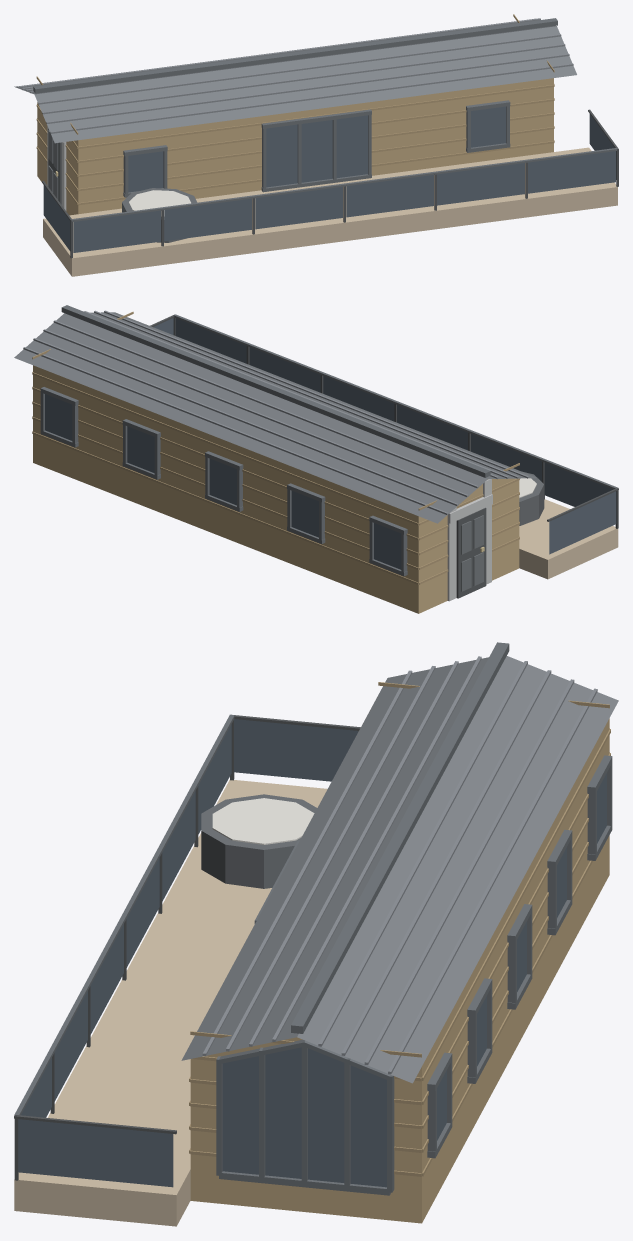
3 views of the same model, one above another, from view 1: azimuth 30°, elevation 25°; view 2: azimuth 150°, elevation 25°; view 3: azimuth 270°, elevation 25° (orthographic). The views are drawn at different scales.
Visible parts, largest first — view 1: slate, door_wood, larch, slate_dk, slate_lt, door_wood_p, window_glass_003, window_glass_005, window_glass_001, window_glass_006, window_glass_002, window_glass_004 (+12 smaller); view 2: door_wood, slate, slate_dk, slate_lt, door_wood_p, larch, window_glass_007, stone_band, window_glass_001, window_glass_004, window_glass_005, window_glass_006 (+11 smaller); view 3: slate, larch, door_wood, slate_dk, window_glass_014, slate_lt, window_glass_008, window_glass_007, door_wood_p, band_dark, string, pipe (+6 smaller).
Part boxes in pixels (bbox=[...]): slate: bbox=[14, 18, 576, 143]; door_wood: bbox=[37, 78, 553, 215]; larch: bbox=[43, 147, 617, 276]; slate_dk: bbox=[33, 18, 617, 221]; slate_lt: bbox=[17, 18, 573, 133]; door_wood_p: bbox=[36, 14, 554, 205]; window_glass_003: bbox=[255, 186, 342, 229]; window_glass_005: bbox=[437, 163, 524, 205]; window_glass_001: bbox=[73, 210, 160, 252]; window_glass_006: bbox=[528, 151, 615, 193]; window_glass_002: bbox=[164, 198, 251, 241]; window_glass_004: bbox=[346, 175, 433, 217]; door_wood: bbox=[33, 365, 519, 613]; slate: bbox=[14, 312, 537, 523]; slate_dk: bbox=[40, 305, 617, 576]; slate_lt: bbox=[23, 310, 528, 514]; door_wood_p: bbox=[32, 311, 519, 584]; larch: bbox=[519, 499, 618, 579]; window_glass_007: bbox=[549, 491, 616, 554]; stone_band: bbox=[447, 479, 492, 601]; window_glass_001: bbox=[544, 463, 612, 506]; window_glass_004: bbox=[323, 376, 394, 421]; window_glass_005: bbox=[249, 347, 320, 392]; window_glass_006: bbox=[175, 318, 246, 363]; slate: bbox=[181, 656, 618, 1083]; larch: bbox=[14, 780, 327, 1226]; door_wood: bbox=[190, 718, 609, 1223]; slate_dk: bbox=[14, 642, 612, 1195]; window_glass_014: bbox=[222, 1047, 386, 1187]; slate_lt: bbox=[202, 656, 597, 1074]; window_glass_008: bbox=[18, 1119, 173, 1187]; window_glass_007: bbox=[234, 719, 358, 781]; door_wood_p: bbox=[189, 682, 610, 1176]; band_dark: bbox=[201, 794, 317, 888]; string: bbox=[212, 798, 314, 844]; pipe: bbox=[14, 714, 360, 1180].
Size of the model in its own units: 14.69 by 3.24 by 8.73.
